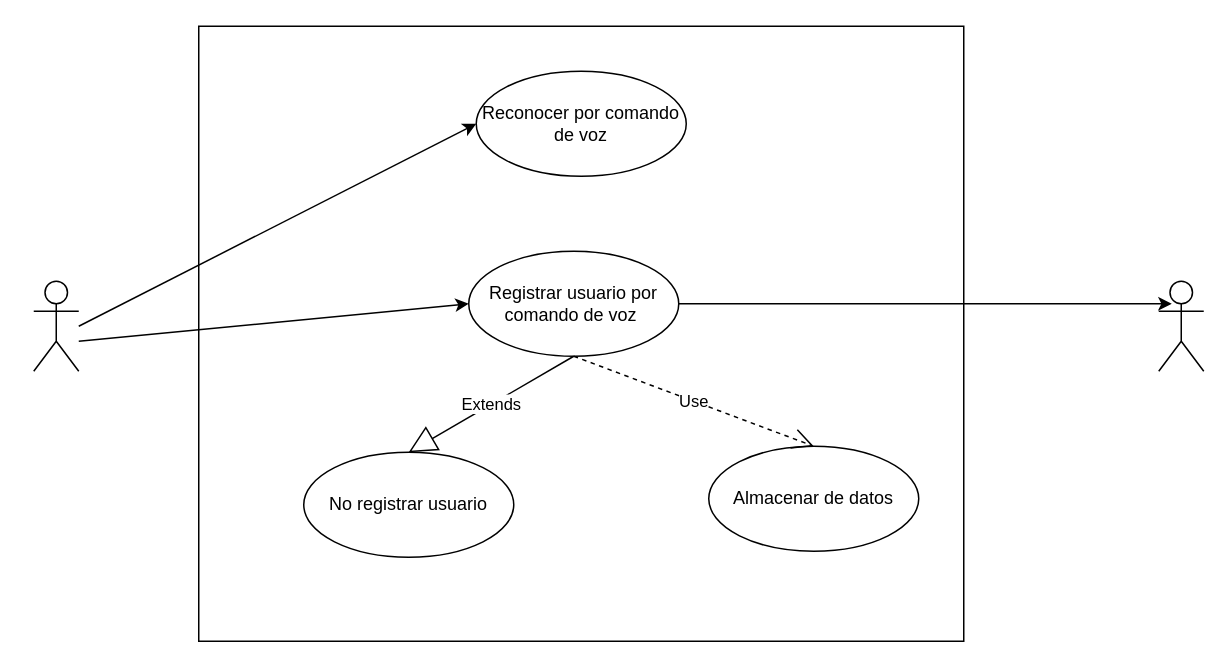
The diagram is 1230 pixels wide and 668 high, and some of its shapes have lost their labels. The shapes that lost their labels are listed below. From the top down, each one's box as (x1, y1, x2, y2) in pixels, then its label:
(32, 280, 79, 371): Usuario
(1157, 280, 1204, 371): OVA
